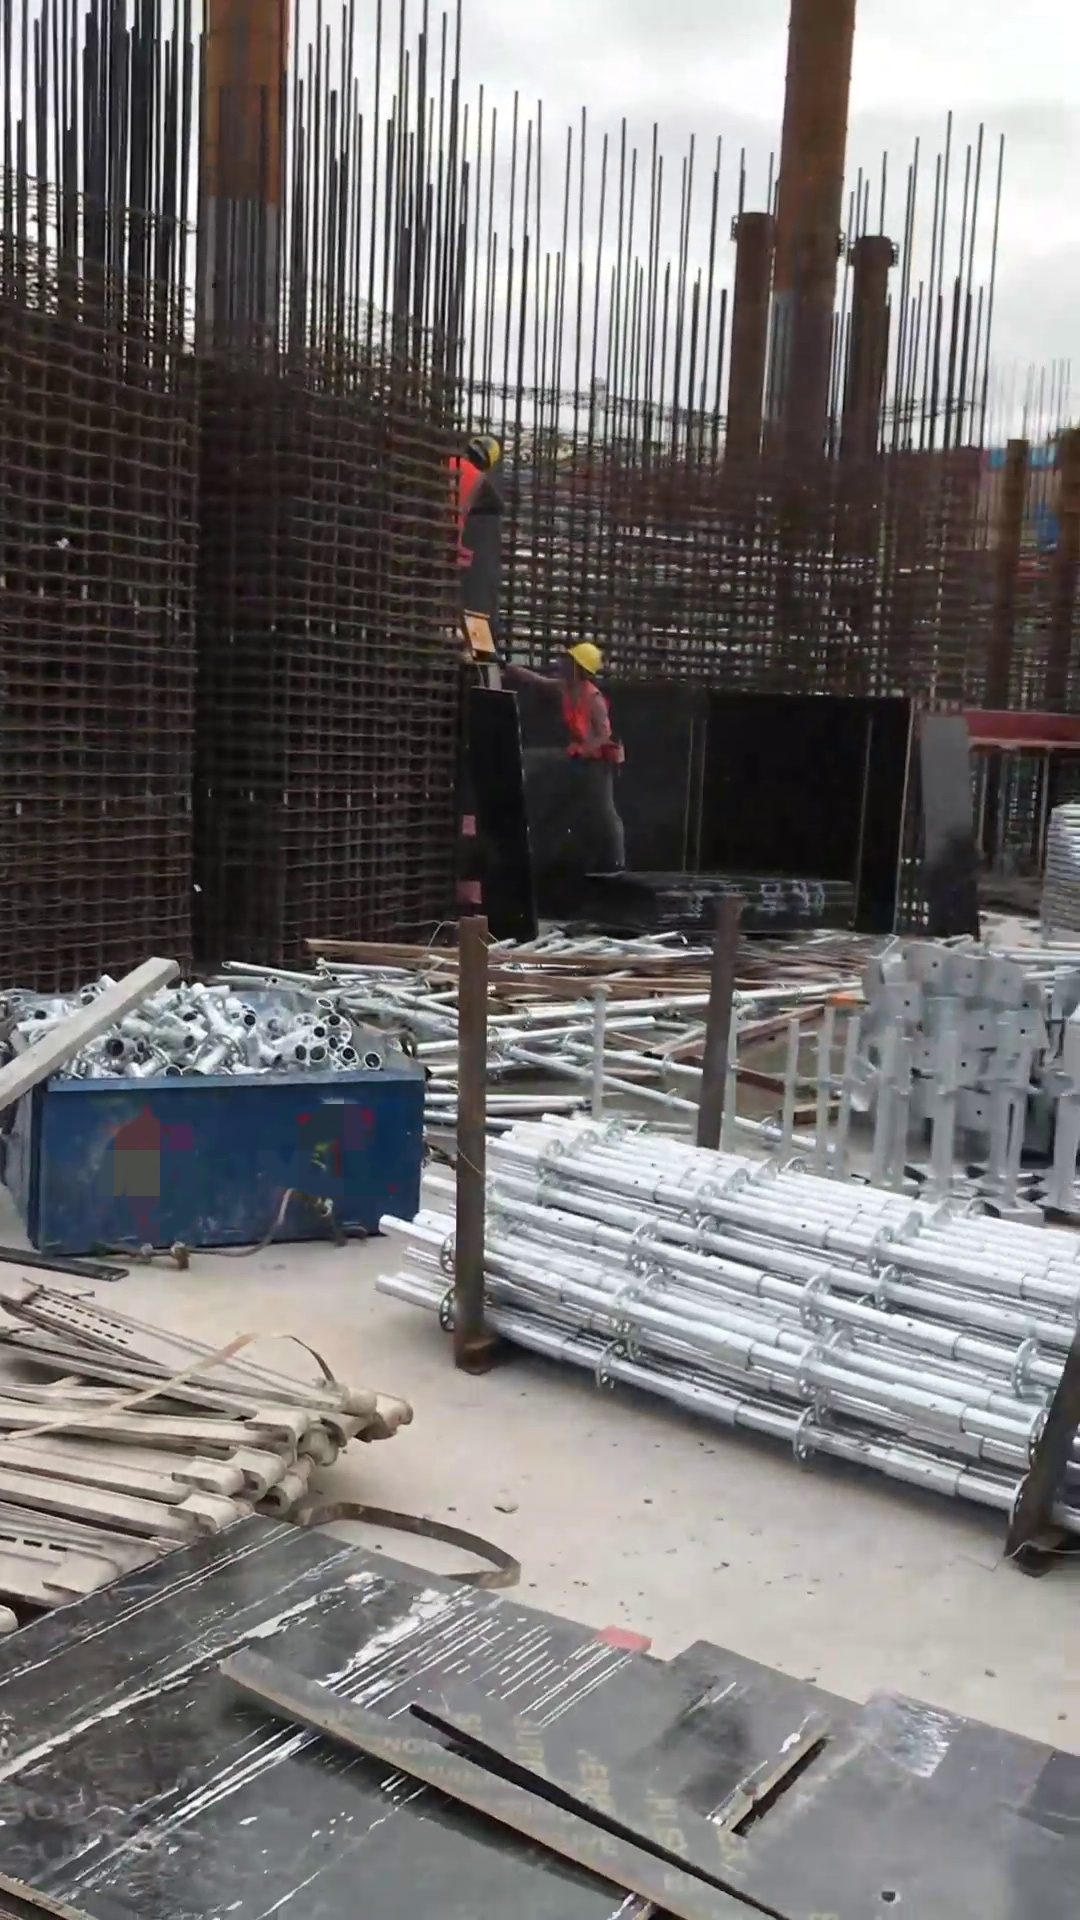board: (5, 1505, 1078, 1920)
ebox: (459, 605, 497, 659)
helmet: (560, 638, 602, 678), (469, 426, 501, 466)
hopper: (1, 1044, 434, 1259)
person: (501, 639, 632, 875), (436, 423, 505, 575)
scaffold: (374, 1108, 1080, 1543), (1032, 801, 1080, 932)
vest: (555, 670, 621, 765), (447, 454, 485, 566)
